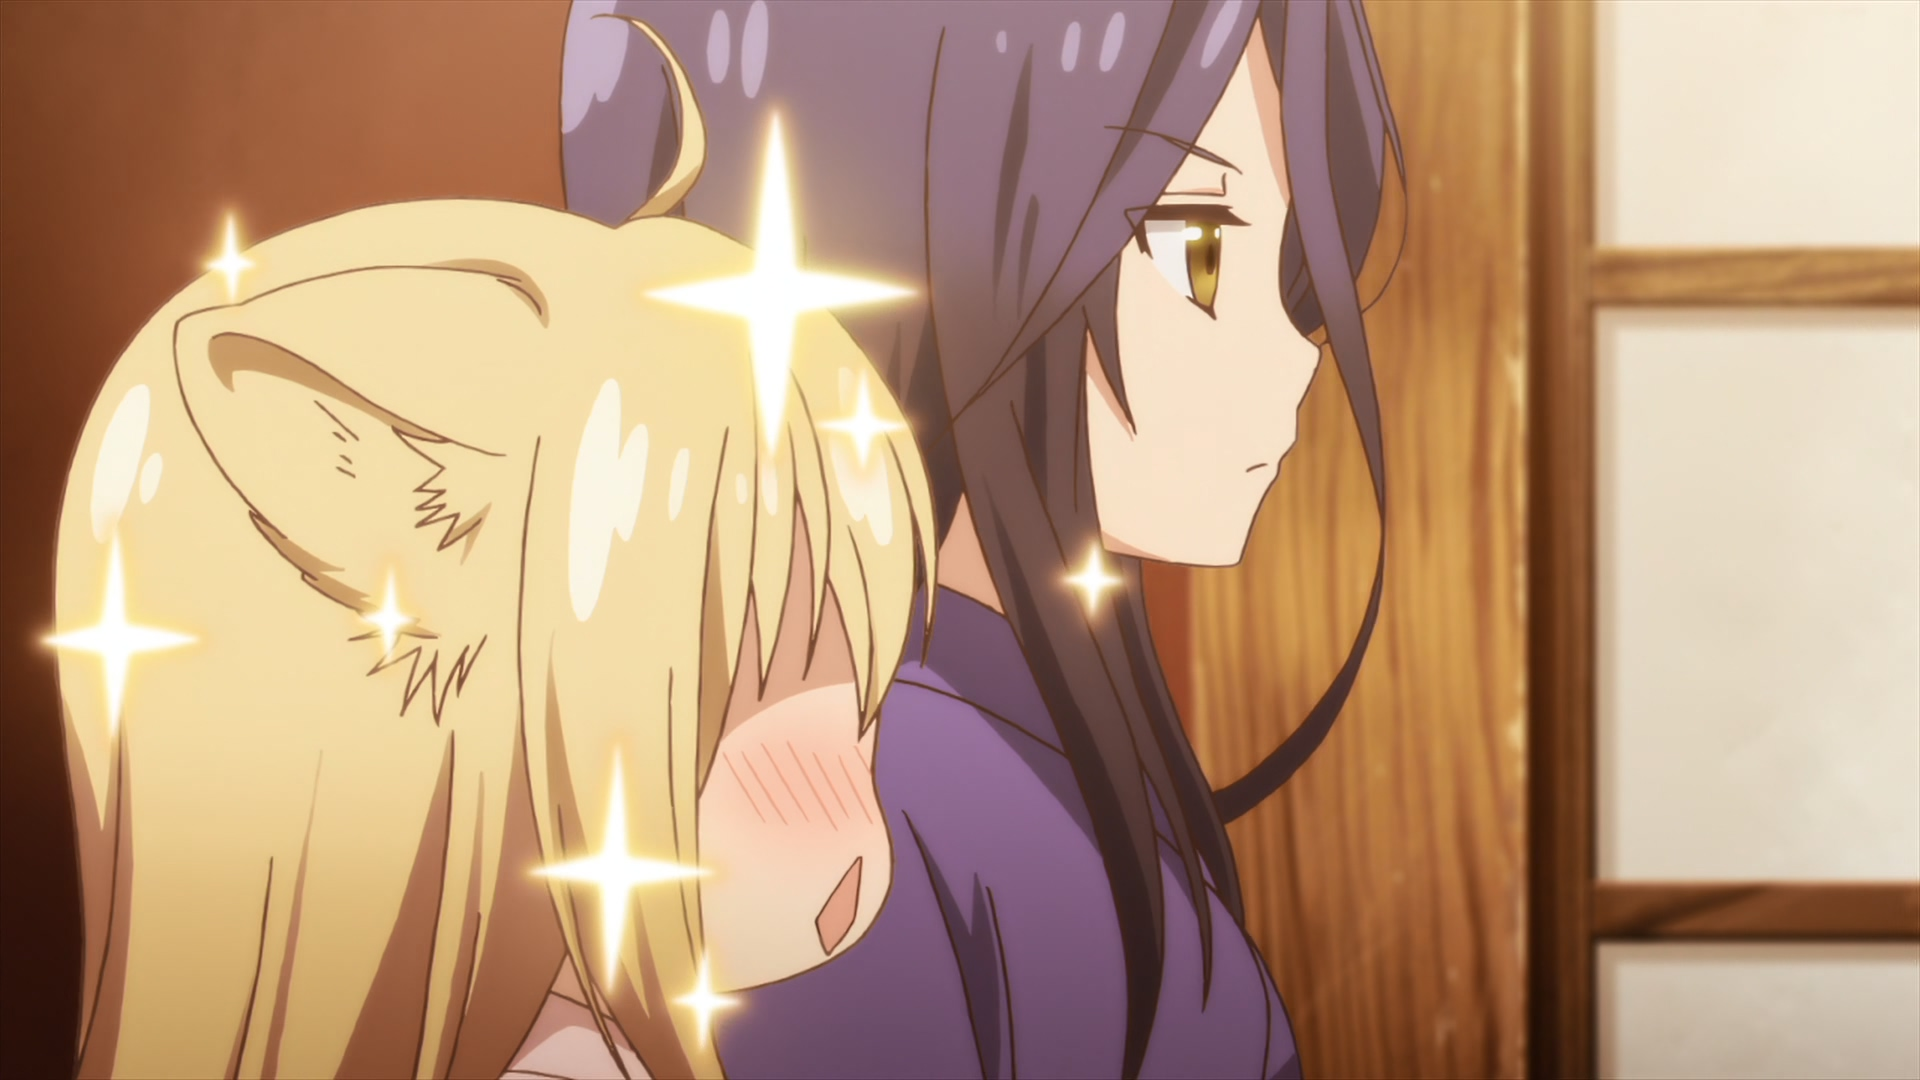柚: (51, 17, 938, 1080)
皋: (560, 1, 1414, 1080)
